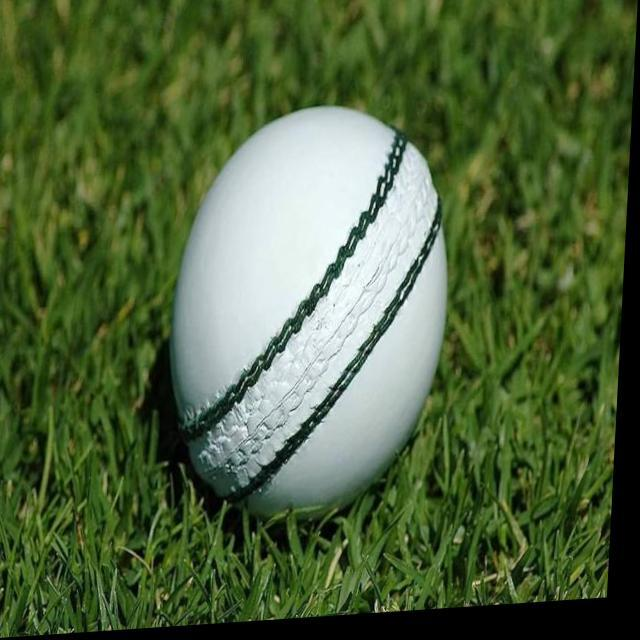cricket ball: (173, 111, 452, 524)
